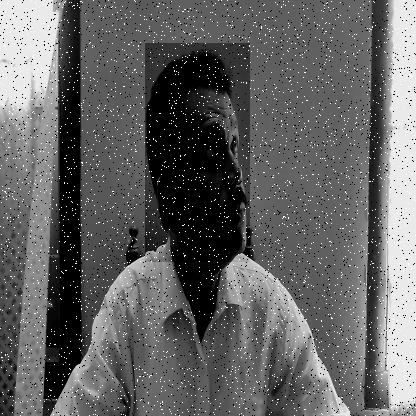Distracted: (145, 43, 250, 262)
